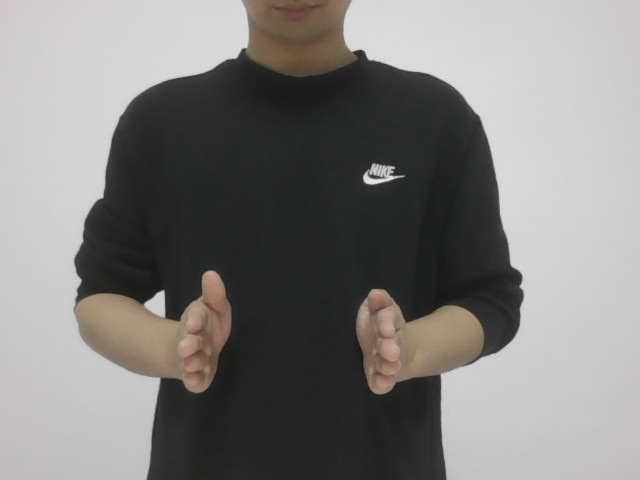road: (174, 265, 409, 399)
